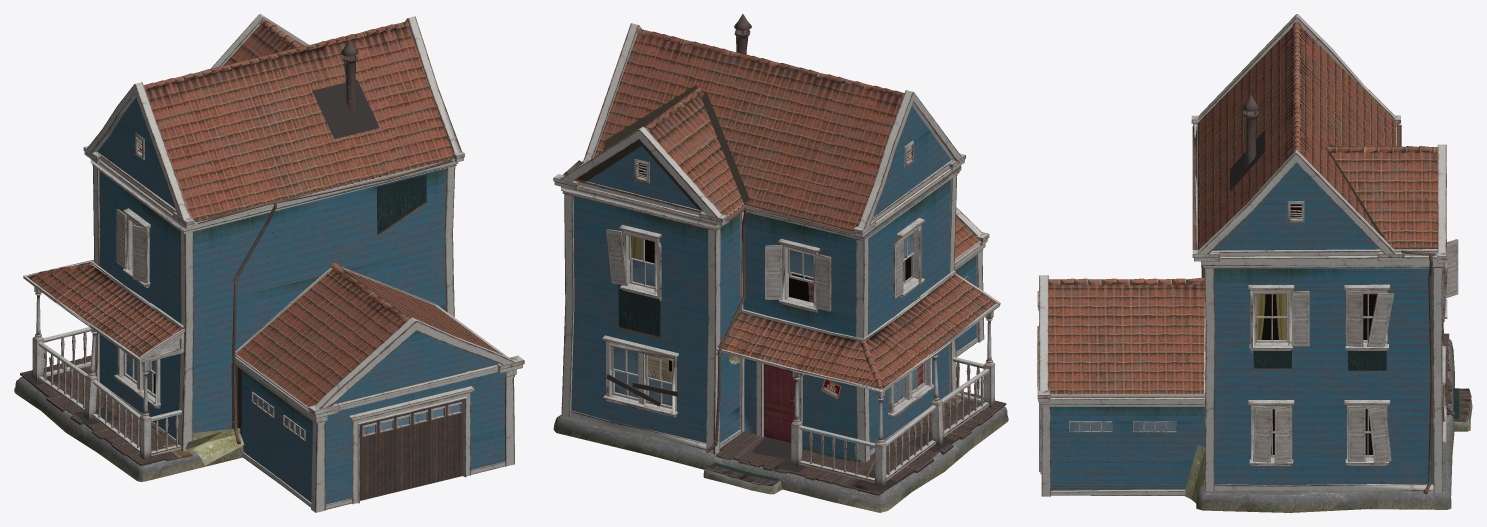
Rendered from blue_house.glb.
3 views of the same model, side by side, from view 1: azimuth 30°, elevation 25°; view 2: azimuth 150°, elevation 25°; view 3: azimuth 270°, elevation 25° (orthographic).
Parts seen in each view (by area): view 1: bld; view 2: bld; view 3: bld.
Boxes of the visible parts, bbox=[...] form: bld: bbox=[14, 14, 524, 512]; bld: bbox=[553, 14, 1008, 512]; bld: bbox=[1037, 14, 1472, 512].
Bounding box in the file's own units: 1596 × 1652 × 1739.
Materials: 2 (2 with a texture image).
